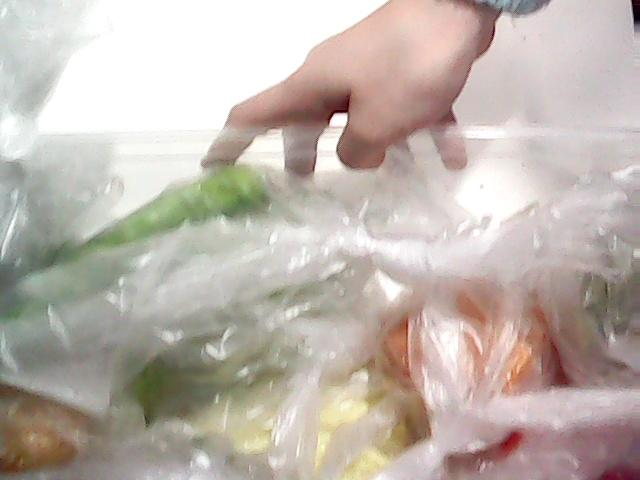carrot: (493, 378, 571, 462)
lemon: (390, 272, 552, 414)
napa cabbage: (117, 327, 467, 480)
pepper: (0, 166, 272, 308)
potato: (0, 382, 100, 476)
